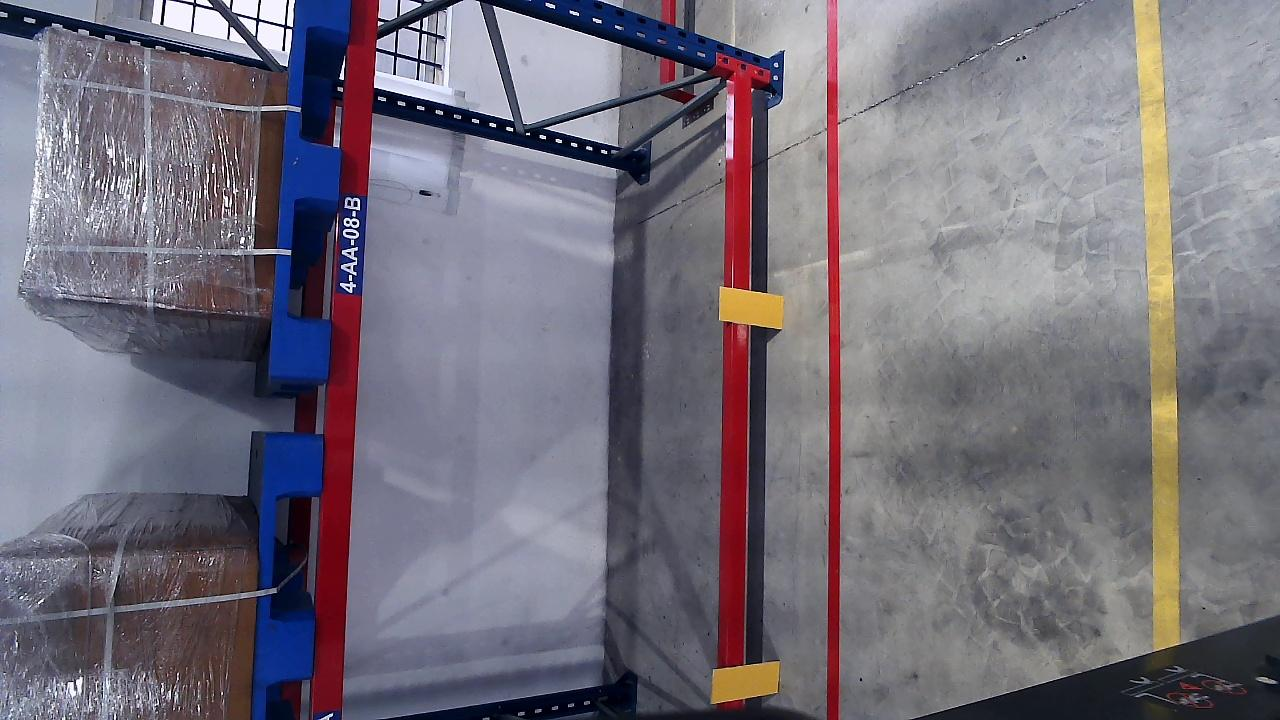h_rack: (337, 0, 366, 685), (726, 76, 758, 659)
orange_strip: (711, 660, 780, 702), (719, 287, 784, 329)
red_line: (824, 4, 846, 713)
small_pallet: (271, 2, 350, 378), (255, 442, 321, 715)
yellow_line: (1135, 0, 1181, 582)
